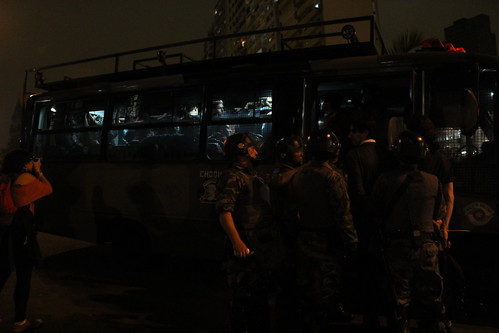bus: (28, 62, 499, 267)
policeman: (210, 132, 278, 327), (286, 128, 354, 323), (374, 131, 442, 326)
